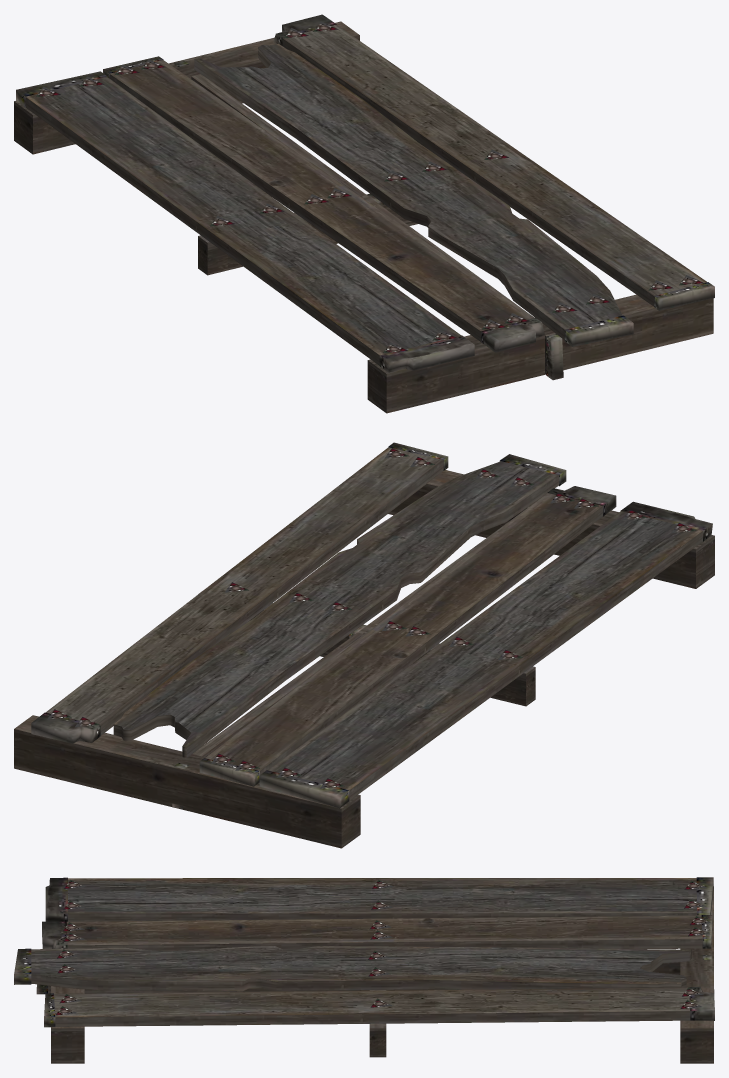
The model's file is improvised_walkway_150x300_edge_a.glb.
3 renders of one model, top to bottom at view 1: azimuth 30°, elevation 25°; view 2: azimuth 150°, elevation 25°; view 3: azimuth 270°, elevation 25°, orthographic. The views are drawn at different scales.
Parts seen in each view (by area): view 1: improvised_walkway_150x300_edge_a; view 2: improvised_walkway_150x300_edge_a; view 3: improvised_walkway_150x300_edge_a.
Part boxes in pixels (bbox=[...]): improvised_walkway_150x300_edge_a: bbox=[14, 14, 714, 413]; improvised_walkway_150x300_edge_a: bbox=[14, 442, 714, 848]; improvised_walkway_150x300_edge_a: bbox=[14, 877, 714, 1063].
Bounding box in the file's own units: 1.5 × 0.2421 × 3.13.
Materials: 1 (1 with a texture image).
